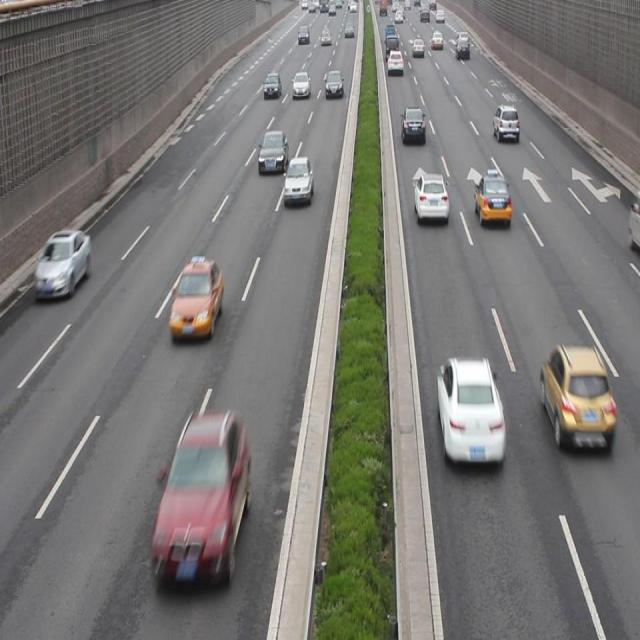car: (148, 412, 251, 586), (436, 356, 506, 475), (541, 345, 614, 454), (169, 255, 223, 341), (33, 226, 92, 298), (473, 170, 510, 228), (412, 172, 448, 225), (282, 156, 313, 204), (257, 130, 289, 176), (400, 106, 425, 144), (492, 106, 517, 142)
